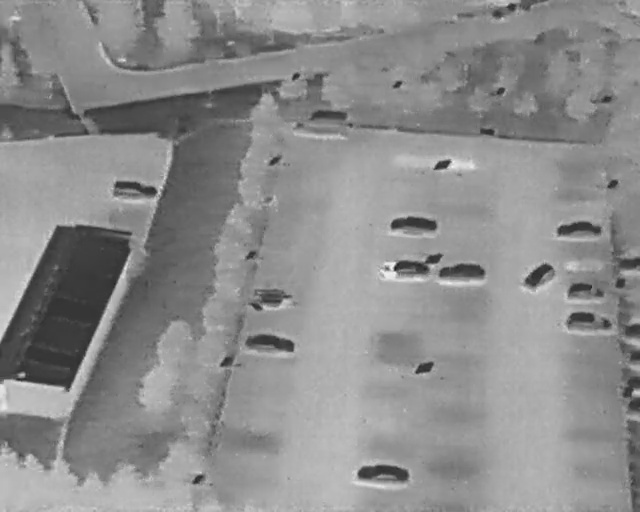Car: (291, 109, 349, 140), (521, 258, 559, 294), (243, 331, 295, 355), (111, 179, 158, 201), (378, 261, 430, 279), (358, 465, 410, 483), (252, 288, 297, 308), (438, 263, 485, 282), (565, 312, 612, 331), (391, 216, 438, 234), (556, 221, 602, 238), (566, 282, 605, 300), (620, 256, 639, 274), (622, 324, 640, 338), (628, 350, 640, 366), (627, 376, 640, 390), (628, 397, 640, 411)
